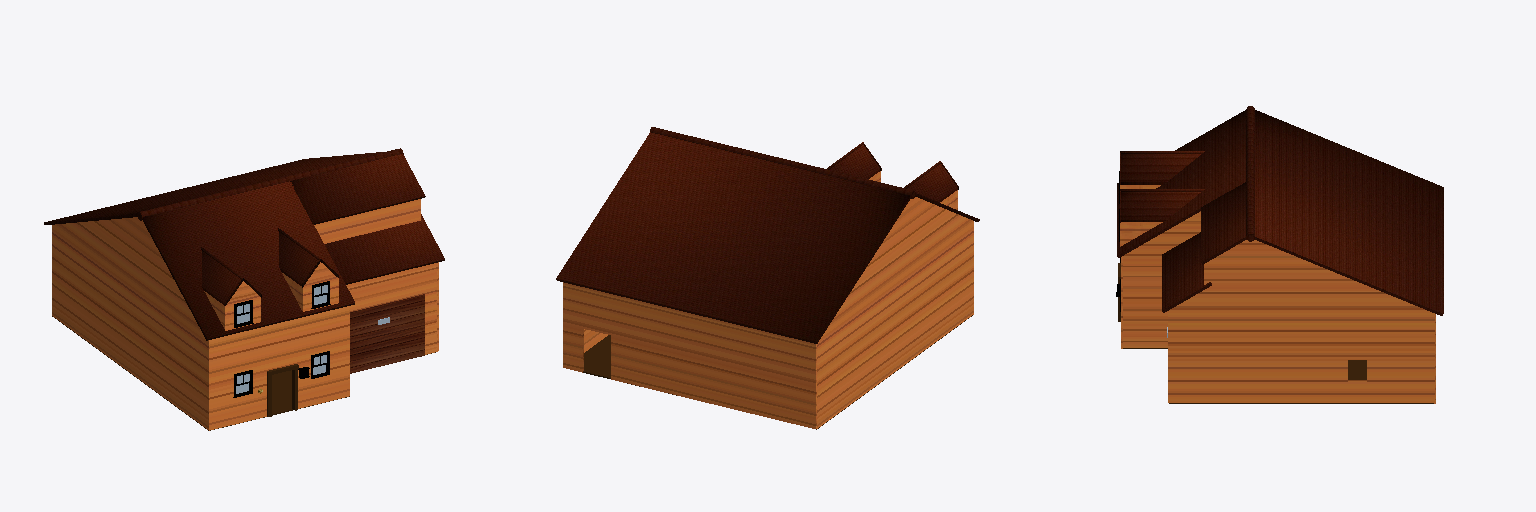
The picture shows the model from 3 angles: view 1: azimuth 30°, elevation 25°; view 2: azimuth 150°, elevation 25°; view 3: azimuth 270°, elevation 25°; orthographic projection.
Visible parts, largest first — view 1: casa:casa:polySurface7344polySurface7697; view 2: casa:casa:polySurface7344polySurface7697; view 3: casa:casa:polySurface7344polySurface7697.
Boxes of the visible parts, box(x1,y1,x2,y2) form: casa:casa:polySurface7344polySurface7697: box(44, 148, 444, 430); casa:casa:polySurface7344polySurface7697: box(556, 127, 979, 429); casa:casa:polySurface7344polySurface7697: box(1116, 106, 1443, 403).
Bounding box in the file's own units: 21.25 × 13.4 × 23.02.
Materials: 15 (11 with a texture image).